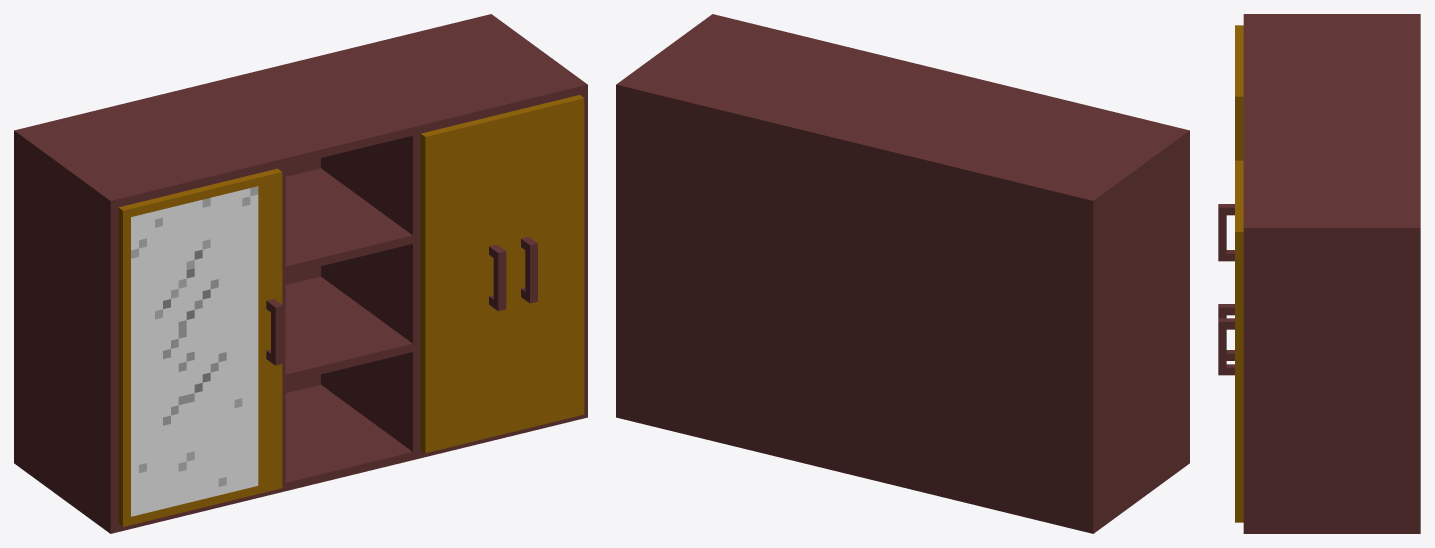
File: Wardrobe2.obj
The picture shows the model from 3 angles, left to right: view 1: azimuth 30°, elevation 25°; view 2: azimuth 150°, elevation 25°; view 3: azimuth 270°, elevation 25°; orthographic projection. The views are drawn at different scales.
Size of the model in its own units: 6 by 4 by 2.4.
Materials: 1 (1 with a texture image).
